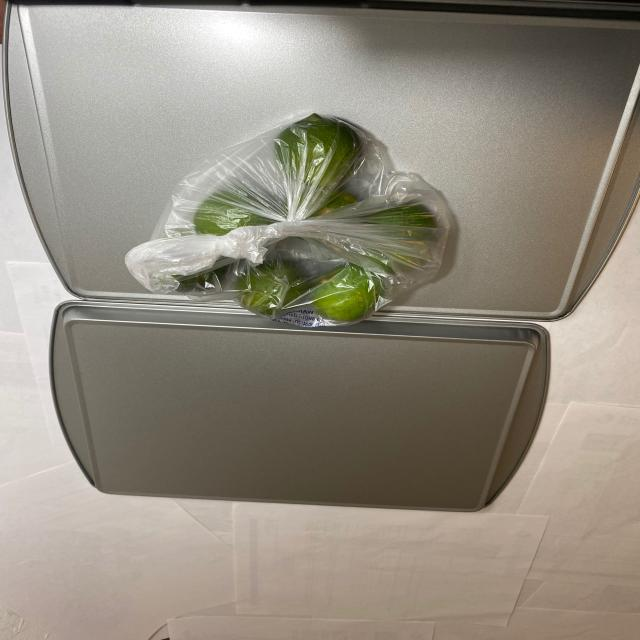lemon: (164, 111, 439, 326)
